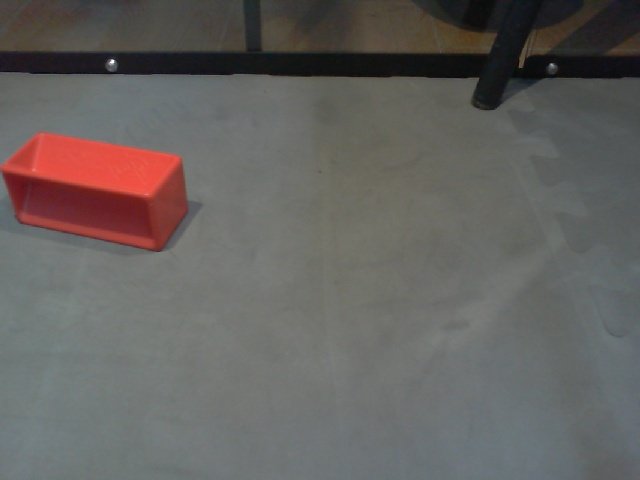RedSample: (1, 129, 192, 255)
